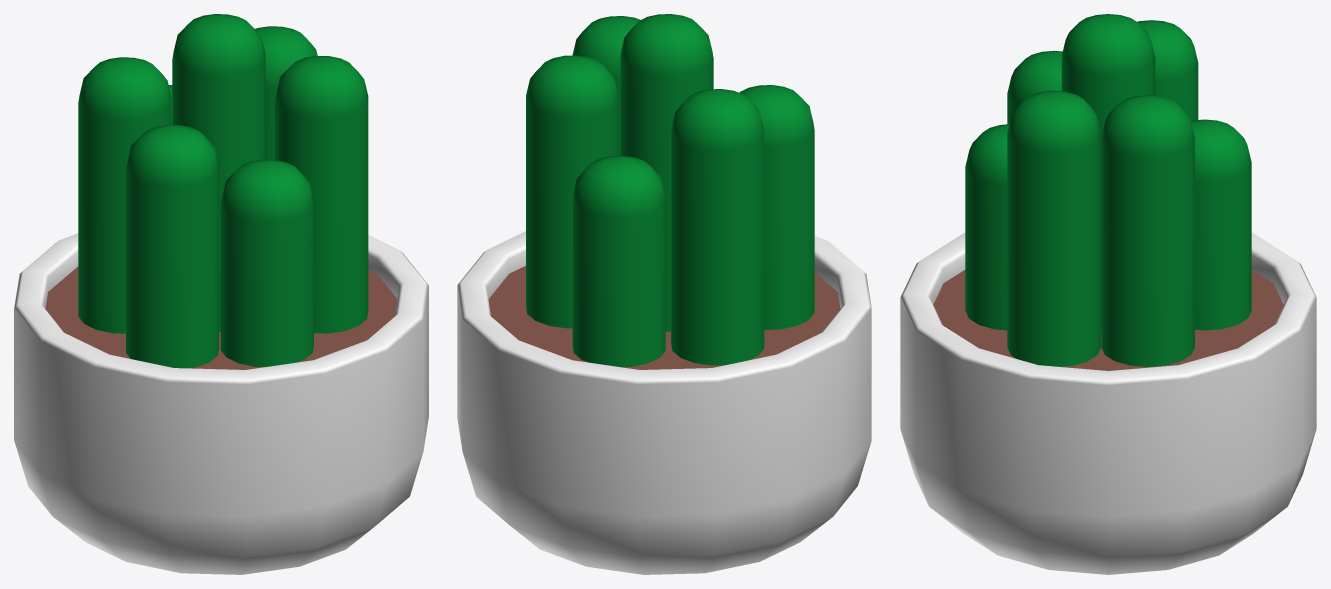
Rendered from Town_1_Plant_1.glb.
3 views of the same model, side by side, from view 1: azimuth 30°, elevation 25°; view 2: azimuth 150°, elevation 25°; view 3: azimuth 270°, elevation 25° (orthographic).
Parts seen in each view (by area): view 1: Town_1_Plant_1; view 2: Town_1_Plant_1; view 3: Town_1_Plant_1.
Boxes of the visible parts, x1,y1,x2,y2 form: Town_1_Plant_1: (14,14,428,574); Town_1_Plant_1: (457,14,871,574); Town_1_Plant_1: (900,14,1316,574).
Bounding box in the file's own units: 0.3238 × 0.4268 × 0.3238.
1 material, 1 textured.
